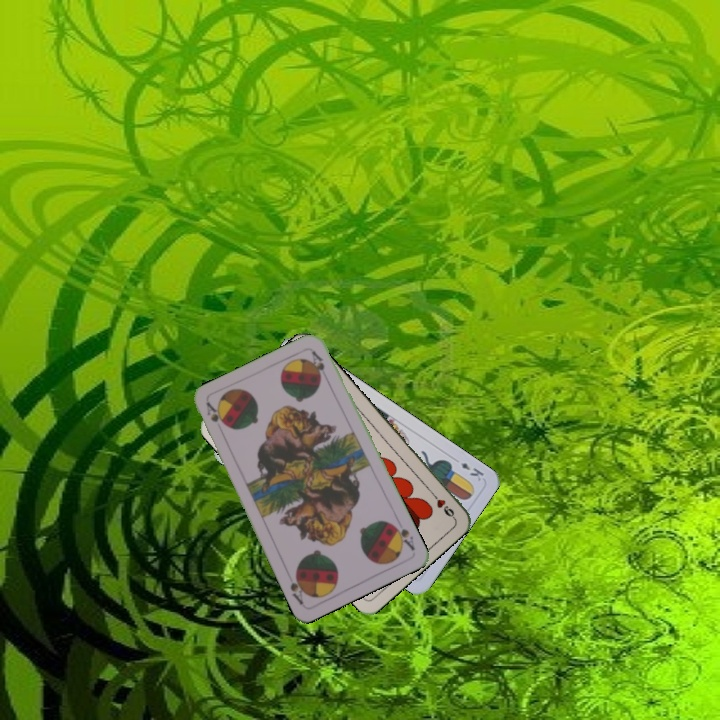EK: (456, 458, 486, 484)
H9: (427, 487, 457, 521)
SA: (387, 519, 418, 553), (202, 398, 226, 427)
